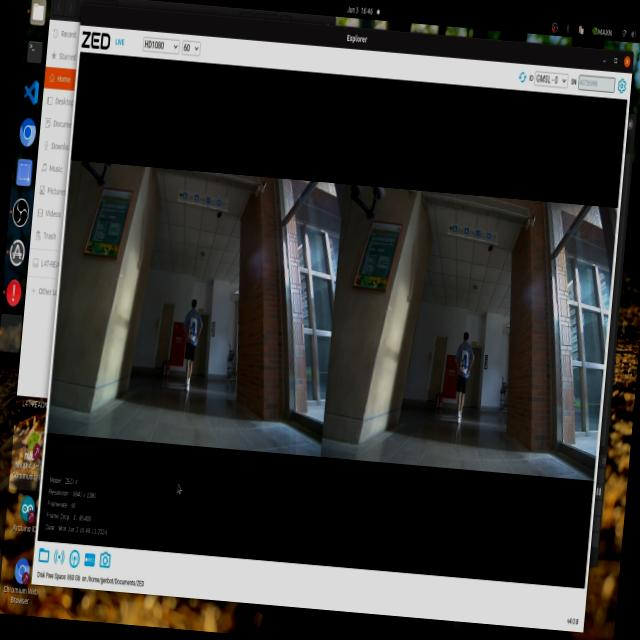blue: (458, 349, 474, 376), (188, 319, 200, 352)
